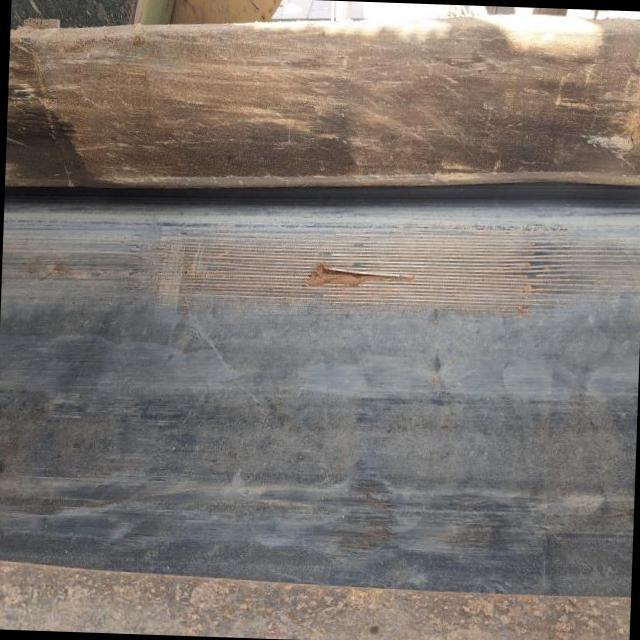Wear: (0, 216, 640, 315)
